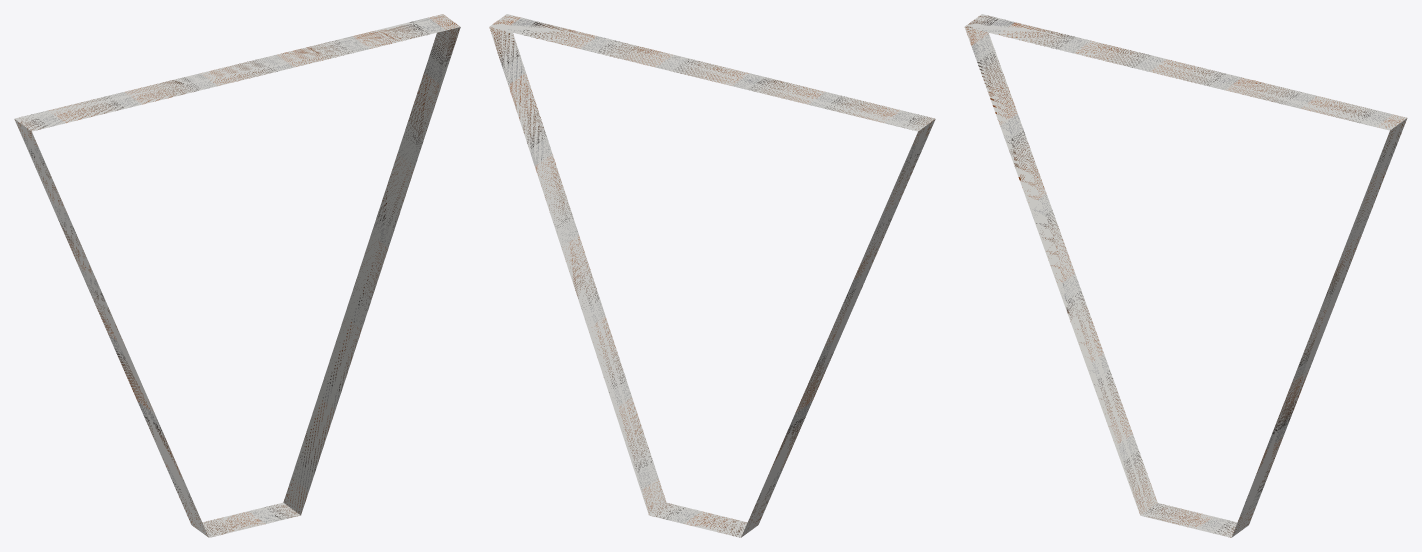
Rendered from original-49.obj.
3 views of the same model, side by side, from view 1: azimuth 30°, elevation 25°; view 2: azimuth 150°, elevation 25°; view 3: azimuth 330°, elevation 25° (orthographic).
Parts seen in each view (by area): view 1: 3dw.2c6493d31849c15a75f1efca97bee05a/Model/Sentry_Really_Big_Rem; view 2: 3dw.2c6493d31849c15a75f1efca97bee05a/Model/Sentry_Really_Big_Rem; view 3: 3dw.2c6493d31849c15a75f1efca97bee05a/Model/Sentry_Really_Big_Rem.
Boxes of the visible parts, <box> form: 3dw.2c6493d31849c15a75f1efca97bee05a/Model/Sentry_Really_Big_Rem: <box>14,14,460,537</box>; 3dw.2c6493d31849c15a75f1efca97bee05a/Model/Sentry_Really_Big_Rem: <box>489,14,935,537</box>; 3dw.2c6493d31849c15a75f1efca97bee05a/Model/Sentry_Really_Big_Rem: <box>964,14,1407,537</box>.
Size of the model in its own units: 0.1438 by 0.144 by 0.0103.
